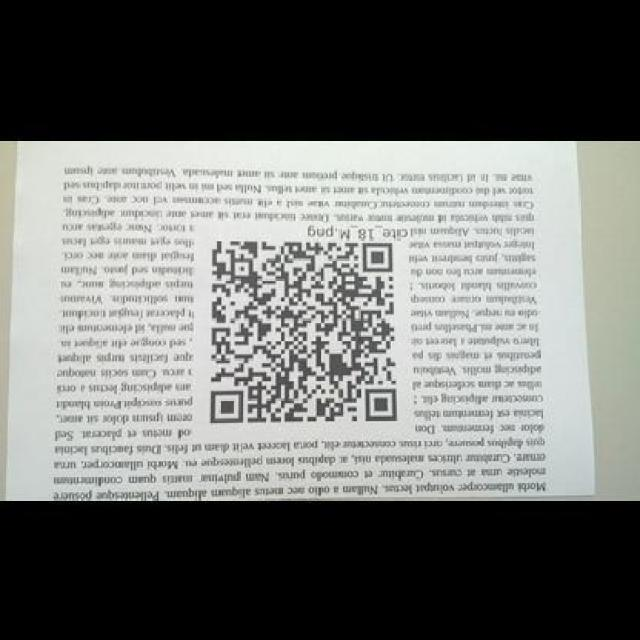QRCode: (207, 236, 403, 424)
